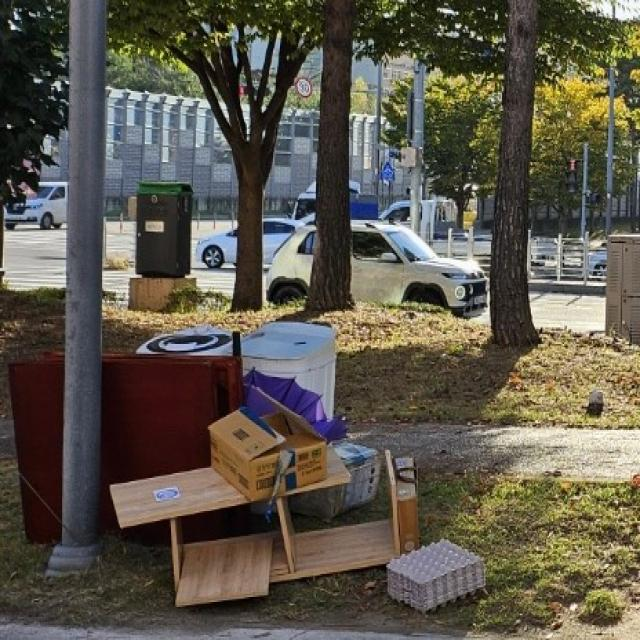Large Waste Items: (7, 331, 260, 546), (147, 452, 438, 611), (100, 427, 374, 529), (250, 310, 348, 433)
